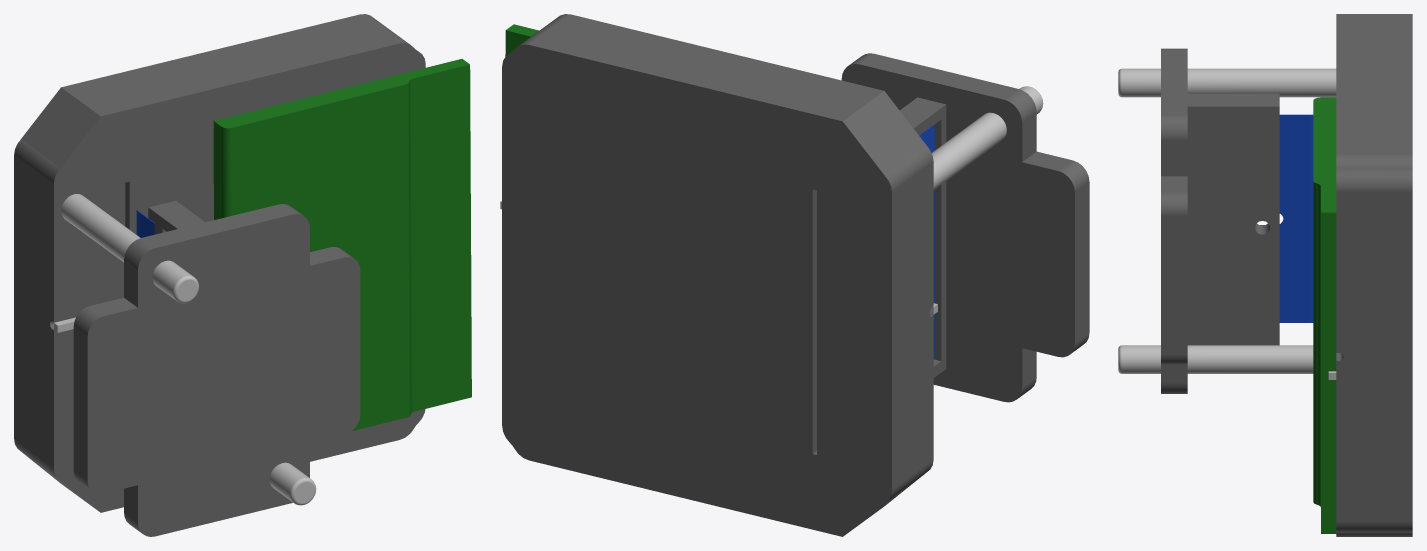
File: gasket-cutter-assembly.glb
3 renders of one model, left to right at view 1: azimuth 30°, elevation 25°; view 2: azimuth 150°, elevation 25°; view 3: azimuth 270°, elevation 25°, orthographic. The views are drawn at different scales.
Bounding box in the file's own units: 0.0868 × 0.0698 × 0.0489.
